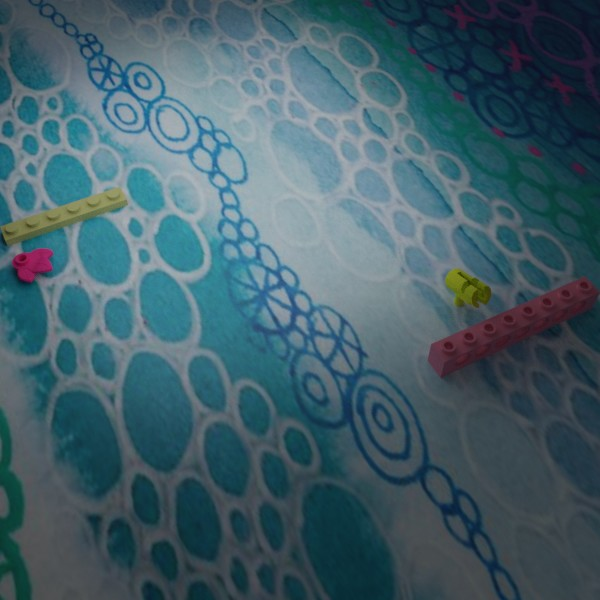lego: (427, 276, 600, 377), (0, 186, 128, 246), (444, 268, 491, 308), (12, 248, 53, 282)
